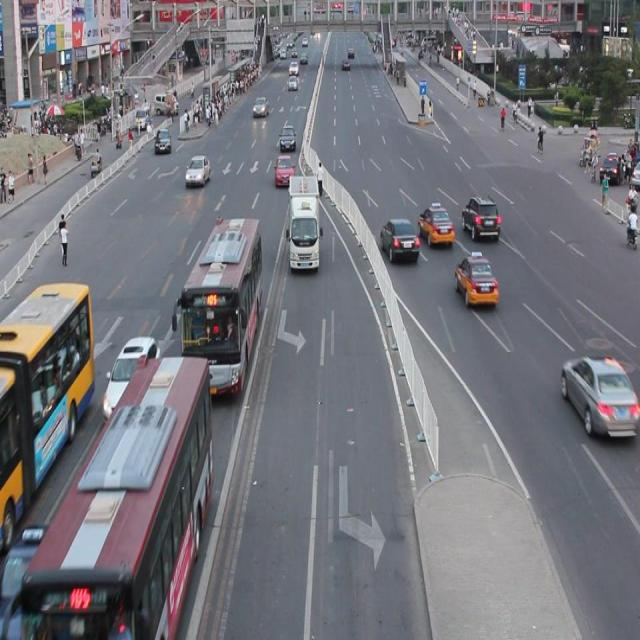bus: (286, 175, 323, 268)
car: (0, 522, 60, 640), (559, 354, 640, 438), (104, 337, 158, 417), (453, 251, 498, 307), (378, 218, 419, 260), (461, 197, 499, 240), (417, 204, 453, 245), (184, 155, 211, 185), (274, 155, 294, 185), (278, 126, 295, 150)
van: (1, 353, 212, 640), (0, 283, 94, 548), (171, 214, 260, 393)
